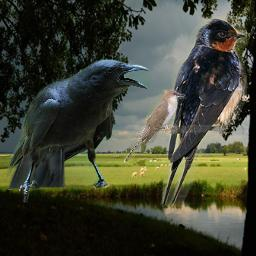Crow: (5, 59, 150, 203)
Cuckoo: (124, 90, 186, 163)
Swallow: (158, 16, 247, 207)
